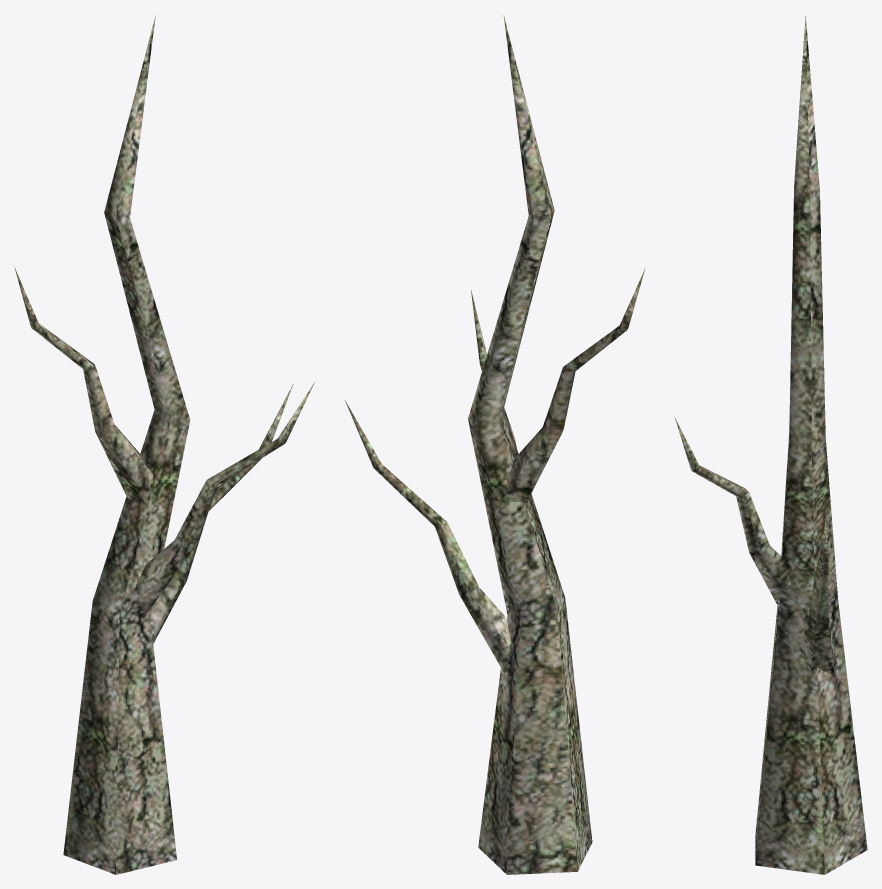
The model's file is Tree.glb.
3 renders of one model, left to right at view 1: azimuth 30°, elevation 25°; view 2: azimuth 150°, elevation 25°; view 3: azimuth 270°, elevation 25°, orthographic. The views are drawn at different scales.
Parts seen in each view (by area): view 1: Tree; view 2: Tree; view 3: Tree.
Boxes of the visible parts, x1=… form: Tree: x1=14, y1=16, x2=314, y2=874; Tree: x1=345, y1=15, x2=645, y2=874; Tree: x1=674, y1=16, x2=867, y2=874.
Size of the model in its own units: 6.48 by 17.65 by 3.62.
1 material, 1 textured.
